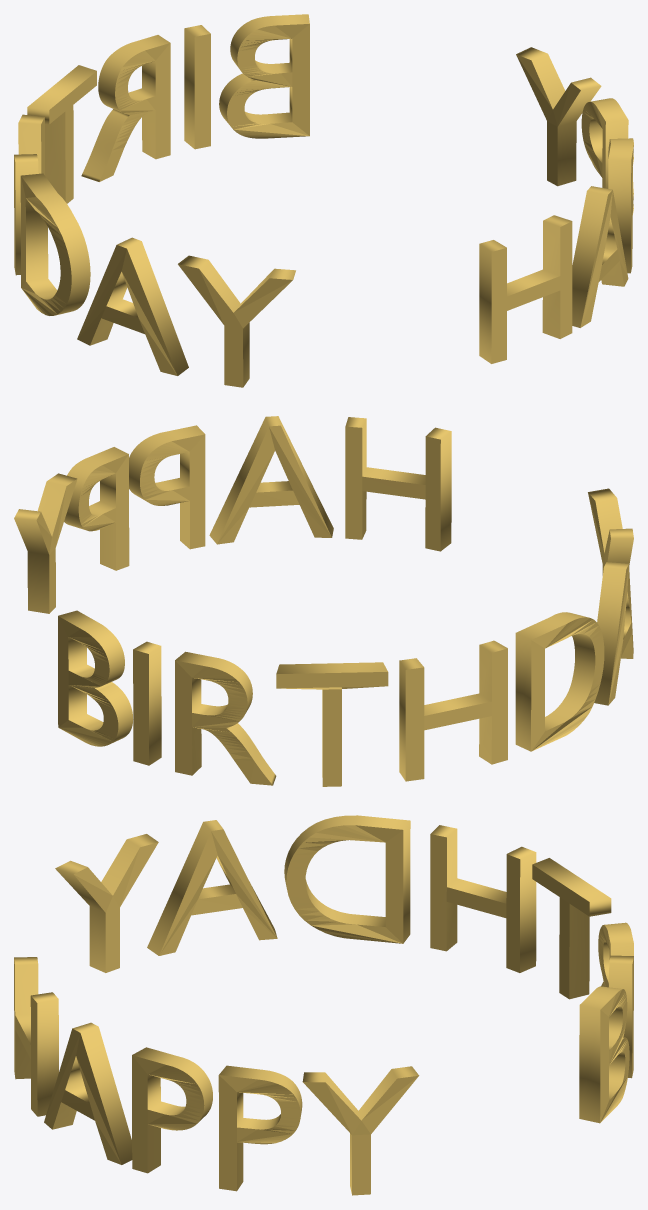
Rendered from txt-happy-birthdayy.dae.
3 renders of one model, top to bottom at view 1: azimuth 30°, elevation 25°; view 2: azimuth 150°, elevation 25°; view 3: azimuth 270°, elevation 25°, orthographic.
Parts seen in each view (by area): view 1: Text; view 2: Text; view 3: Text.
Part boxes in pixels (x1=…): Text: x1=14, y1=14, x2=633, y2=387; Text: x1=14, y1=416, x2=633, y2=786; Text: x1=14, y1=815, x2=633, y2=1195.
Bounding box in the file's own units: 2.17 × 2.12 × 0.4348.
